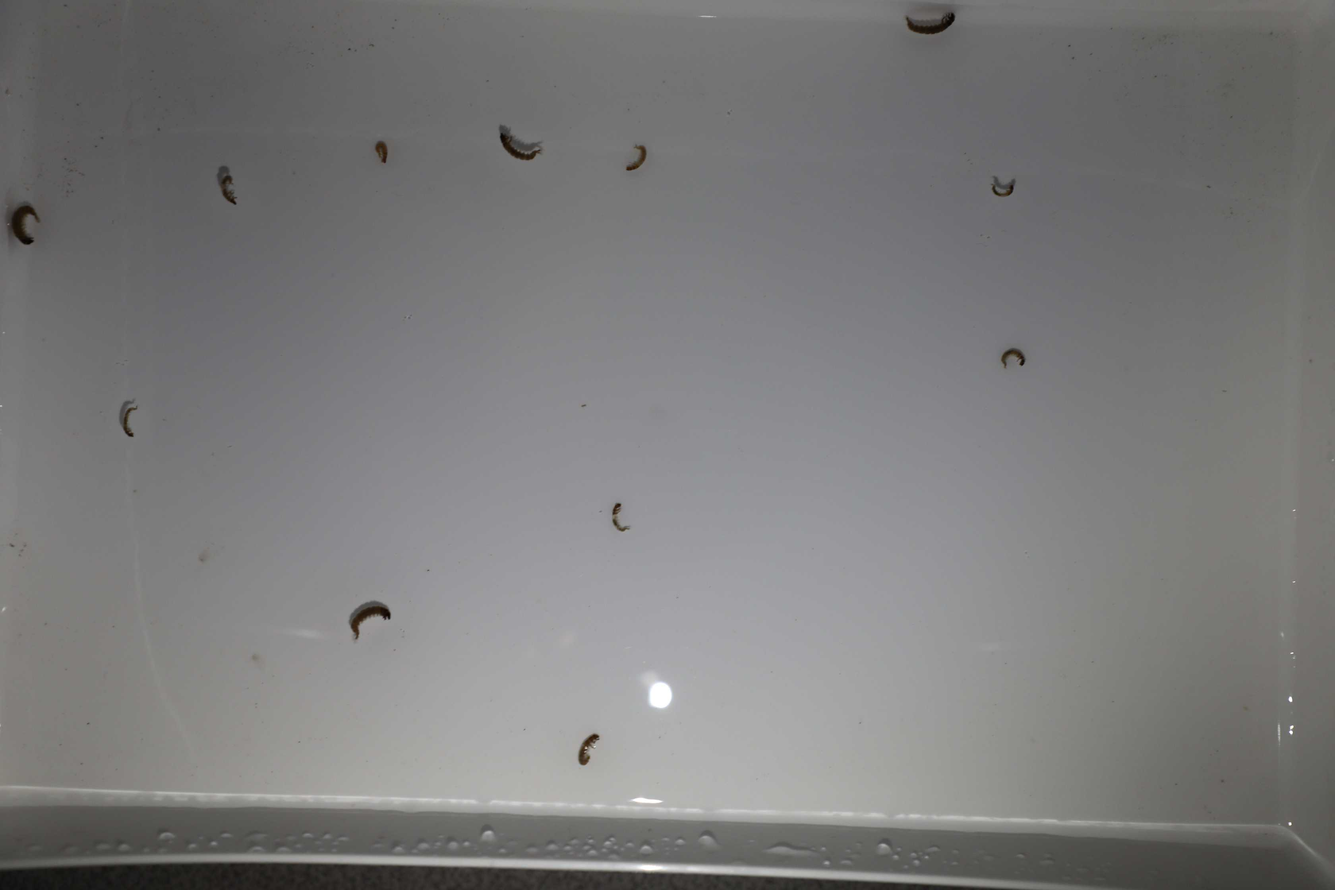Cadisfly: (893, 0, 959, 43), (343, 598, 393, 647), (7, 195, 43, 251), (570, 725, 609, 771), (499, 125, 540, 165), (606, 497, 639, 540), (117, 395, 142, 444), (215, 167, 243, 210), (623, 145, 654, 175), (997, 348, 1034, 373), (991, 173, 1020, 200), (370, 135, 391, 163)
